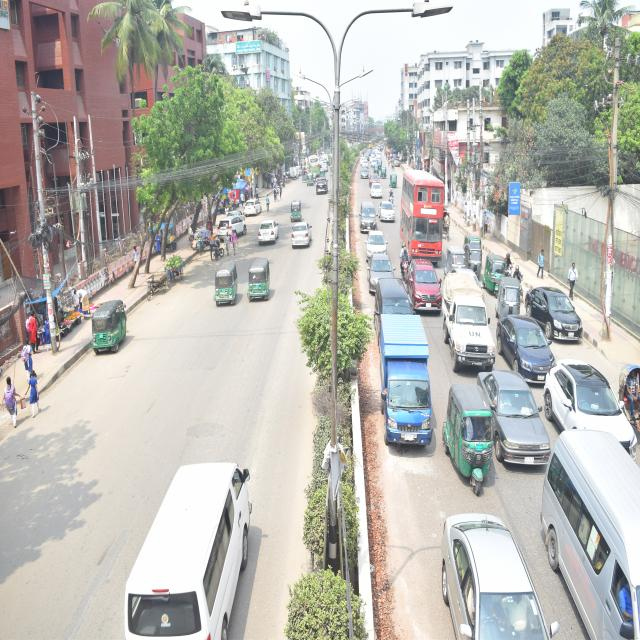bus: (401, 168, 446, 292), (303, 153, 320, 185)
car: (432, 489, 592, 640), (546, 344, 640, 465), (477, 362, 553, 472), (491, 303, 557, 390), (522, 277, 588, 353), (406, 245, 447, 321), (363, 243, 407, 298), (251, 213, 298, 258), (212, 206, 268, 243), (288, 212, 325, 265), (364, 212, 390, 265), (241, 184, 267, 223), (359, 191, 380, 239), (380, 193, 400, 240), (355, 161, 372, 187), (370, 173, 384, 204), (314, 154, 332, 178), (314, 176, 332, 199), (370, 158, 384, 176), (358, 154, 368, 172), (369, 152, 379, 170)
microbus: (103, 426, 273, 640), (550, 429, 640, 640), (370, 266, 426, 342)
motorbike: (501, 243, 520, 299), (397, 241, 414, 287), (511, 259, 530, 300), (387, 180, 401, 206)
pickup-van: (373, 306, 441, 459), (439, 265, 510, 382), (288, 161, 305, 181)
